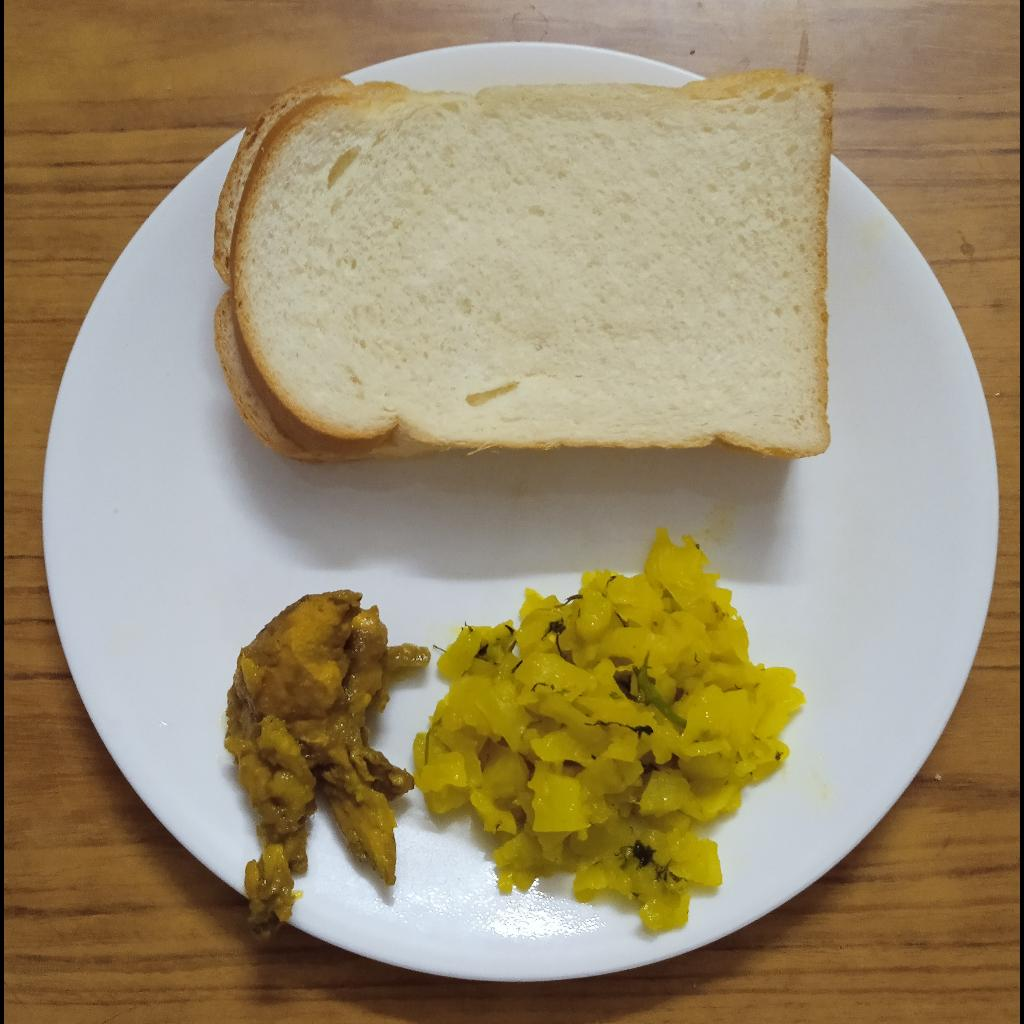bread: (213, 69, 834, 462)
chicken: (224, 591, 430, 939)
lau: (412, 528, 807, 933)
